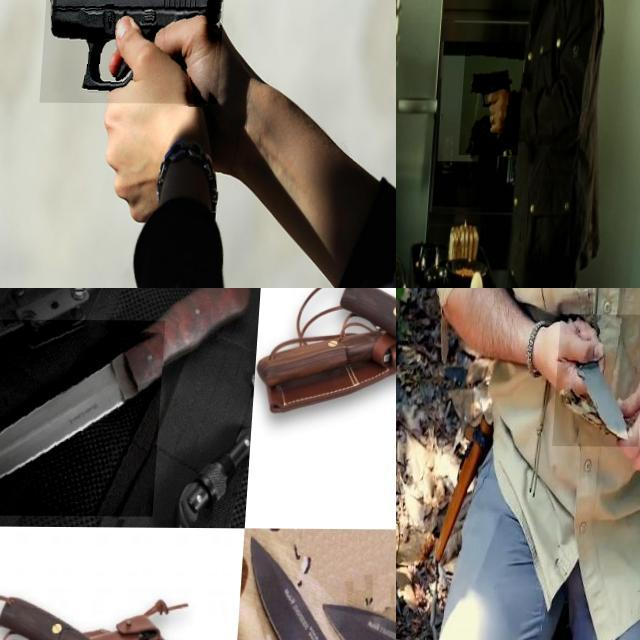-: (0, 318, 166, 516), (244, 532, 356, 640), (557, 314, 640, 446), (318, 597, 396, 640)
gun-knife-thesis - v11 Yolov5 augmented: (43, 0, 229, 103), (464, 42, 529, 154)
